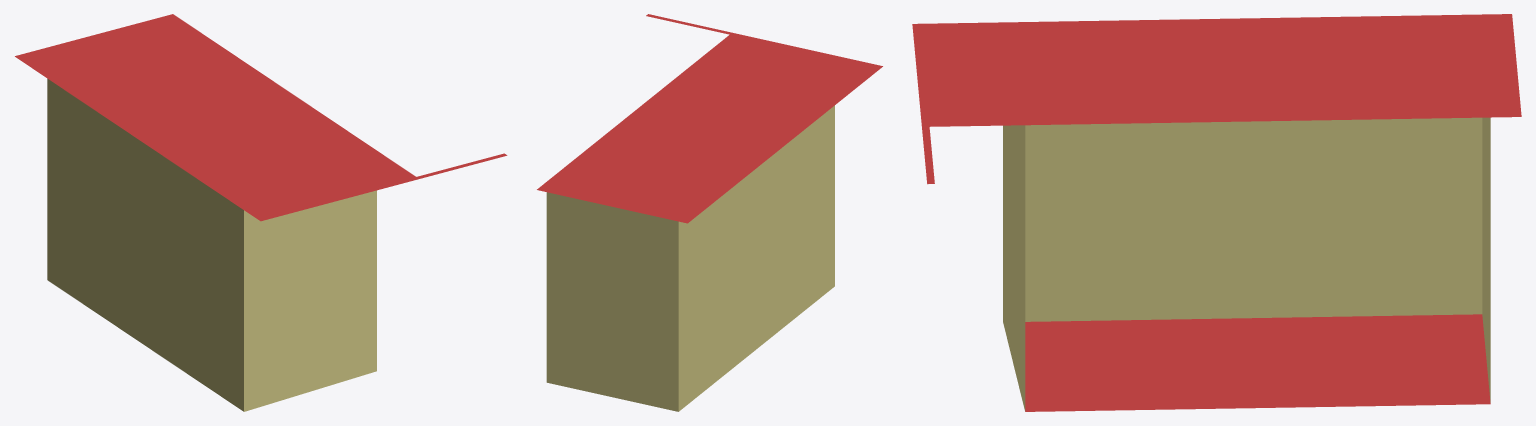
3 views of the same model, side by side, from view 1: azimuth 30°, elevation 25°; view 2: azimuth 150°, elevation 25°; view 3: azimuth 270°, elevation 25° (orthographic). The views are drawn at different scales.
Size of the model in its own units: 6.49 by 9.82 by 5.1.
